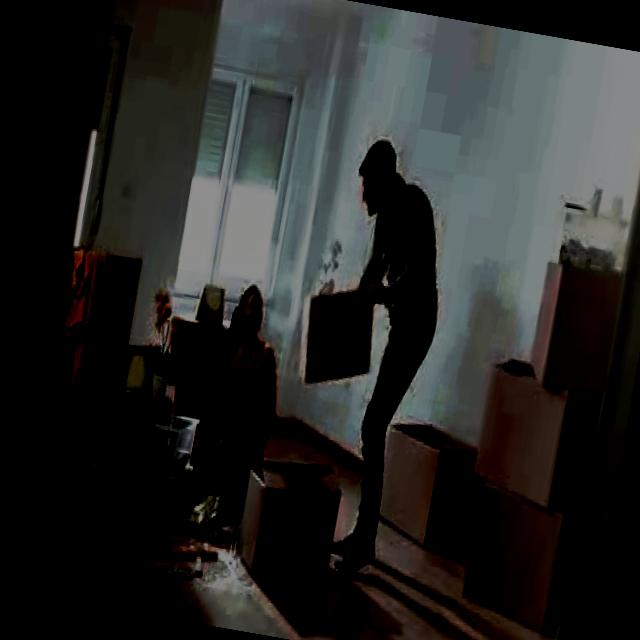Box: (460, 370, 596, 502), (453, 494, 577, 634), (228, 454, 349, 591), (369, 412, 474, 546), (524, 261, 620, 396), (290, 282, 374, 389)
